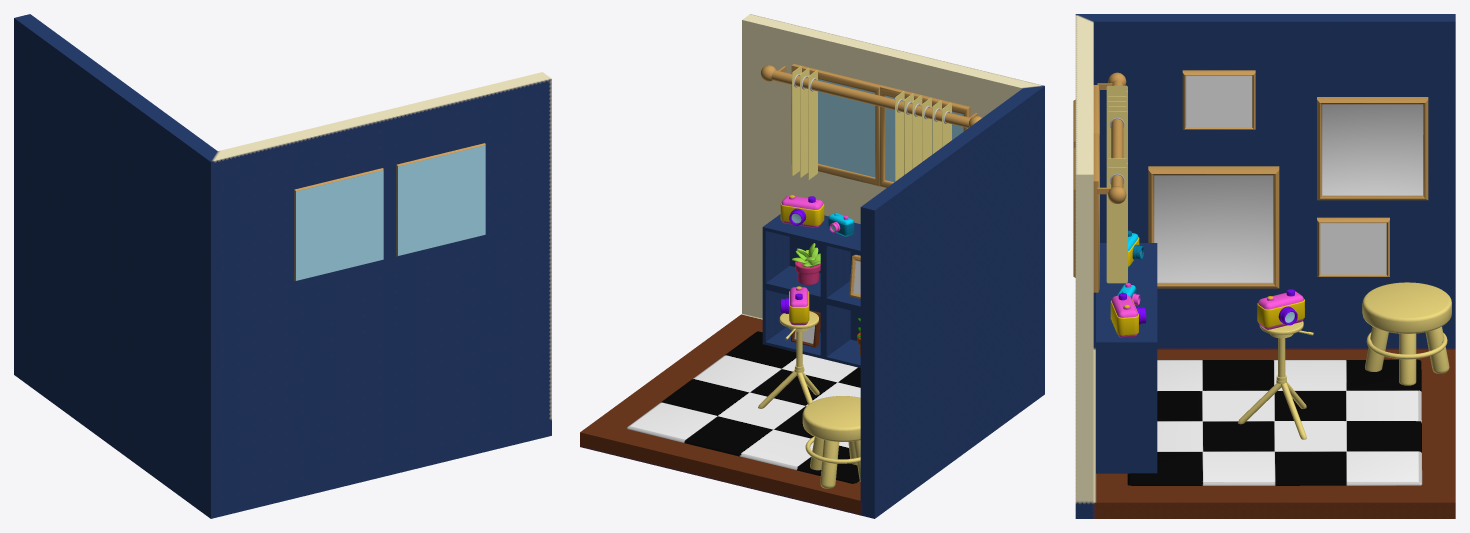
The model's file is room2.gltf.
3 renders of one model, left to right at view 1: azimuth 30°, elevation 25°; view 2: azimuth 150°, elevation 25°; view 3: azimuth 270°, elevation 25°, orthographic. The views are drawn at different scales.
Parts seen in each view (by area): view 1: room', Cube.6, Cube.4; view 2: room', Cube.5, Cube.7 (×2), Cube.6, Cylinder.1 (×3), Cube.4, Cube.1 (×2), Cube.14, Cube.12, Cube.11, Cube.9, Cylinder.5 (+1 smaller); view 3: room', Cube.5, frame.7, Cube.7, frame.6, Cylinder.1 (×3), frame.5, frame.4, Cube.11, Cube.1 (×2), Cube.6, Cylinder.4 (+5 smaller).
Part boxes in pixels (left/top/right/bottom): room': left=14, top=14, right=551, bottom=518; Cube.6: left=396, top=143, right=485, bottom=256; Cube.4: left=294, top=168, right=383, bottom=281; room': left=580, top=14, right=1044, bottom=518; Cube.5: left=626, top=331, right=860, bottom=483; Cube.7 (×2): left=762, top=95, right=922, bottom=367; Cube.6: left=791, top=64, right=881, bottom=186; Cylinder.1 (×3): left=771, top=70, right=970, bottom=441; Cube.4: left=880, top=85, right=970, bottom=187; Cube.1 (×2): left=780, top=195, right=824, bottom=325; Cube.14: left=808, top=70, right=817, bottom=179; Cube.12: left=800, top=68, right=809, bottom=177; Cube.11: left=792, top=66, right=801, bottom=175; Cube.9: left=895, top=91, right=904, bottom=181; Cylinder.5: left=820, top=440, right=839, bottom=488; room': left=1075, top=14, right=1455, bottom=518; Cube.5: left=1127, top=359, right=1422, bottom=485; frame.7: left=1148, top=166, right=1279, bottom=288; Cube.7: left=1096, top=243, right=1157, bottom=473; frame.6: left=1317, top=97, right=1428, bottom=200; Cylinder.1 (×3): left=1111, top=80, right=1451, bottom=383; frame.5: left=1182, top=70, right=1255, bottom=129; frame.4: left=1317, top=217, right=1389, bottom=276; Cube.11: left=1106, top=167, right=1127, bottom=283; Cube.1 (×2): left=1110, top=291, right=1304, bottom=337; Cube.6: left=1073, top=133, right=1099, bottom=292; Cylinder.4: left=1399, top=333, right=1416, bottom=385.
Bounding box in the file's own units: 10.5 × 10.5 × 10.56.
Materials: 102 (102 with a texture image).
